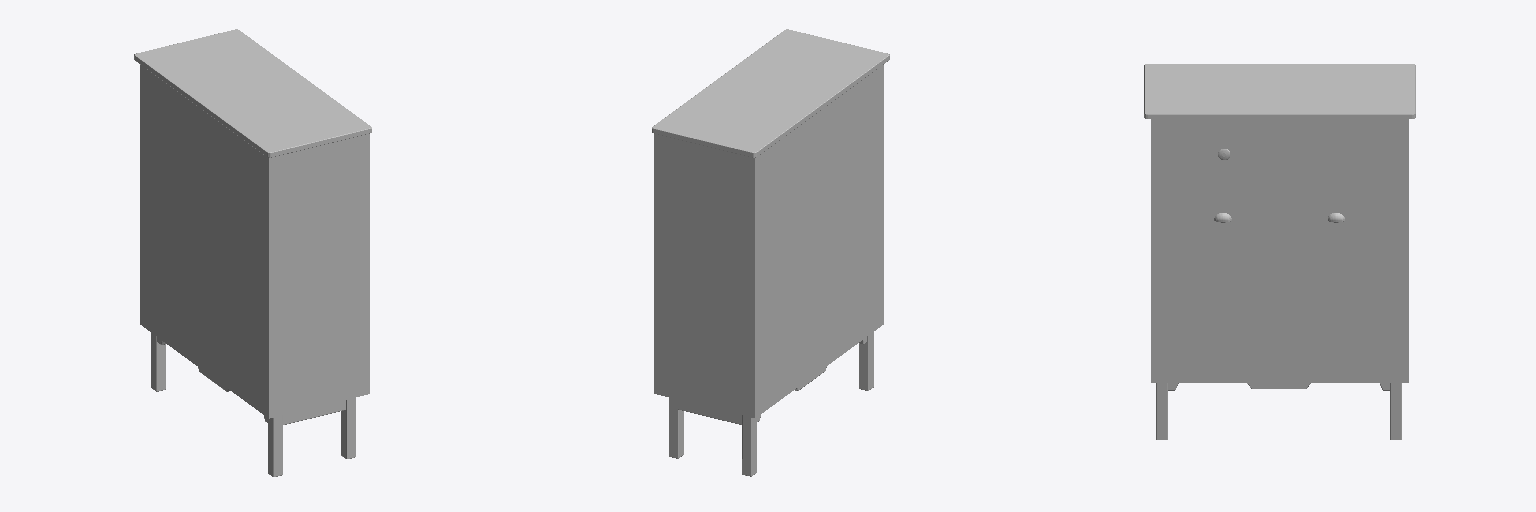
The model's file is drawer_convex_mesh.obj.
3 renders of one model, left to right at view 1: azimuth 30°, elevation 25°; view 2: azimuth 150°, elevation 25°; view 3: azimuth 270°, elevation 25°, orthographic.
Parts seen in each view (by area): view 1: Cube, uploads_files_[number redacted]_DRAWER_(1); view 2: Cube, uploads_files_[number redacted]_DRAWER_(1); view 3: Cube, uploads_files_[number redacted]_DRAWER_(1).
Boxes of the visible parts, x1=… form: Cube: x1=140, y1=32, x2=369, y2=418; uploads_files_[number redacted]_DRAWER_(1): x1=134, y1=29, x2=371, y2=476; Cube: x1=654, y1=32, x2=883, y2=417; uploads_files_[number redacted]_DRAWER_(1): x1=652, y1=29, x2=889, y2=476; Cube: x1=1151, y1=115, x2=1408, y2=382; uploads_files_[number redacted]_DRAWER_(1): x1=1144, y1=64, x2=1415, y2=439.
Bounding box in the file's own units: 0.6741 × 1.94 × 1.43.